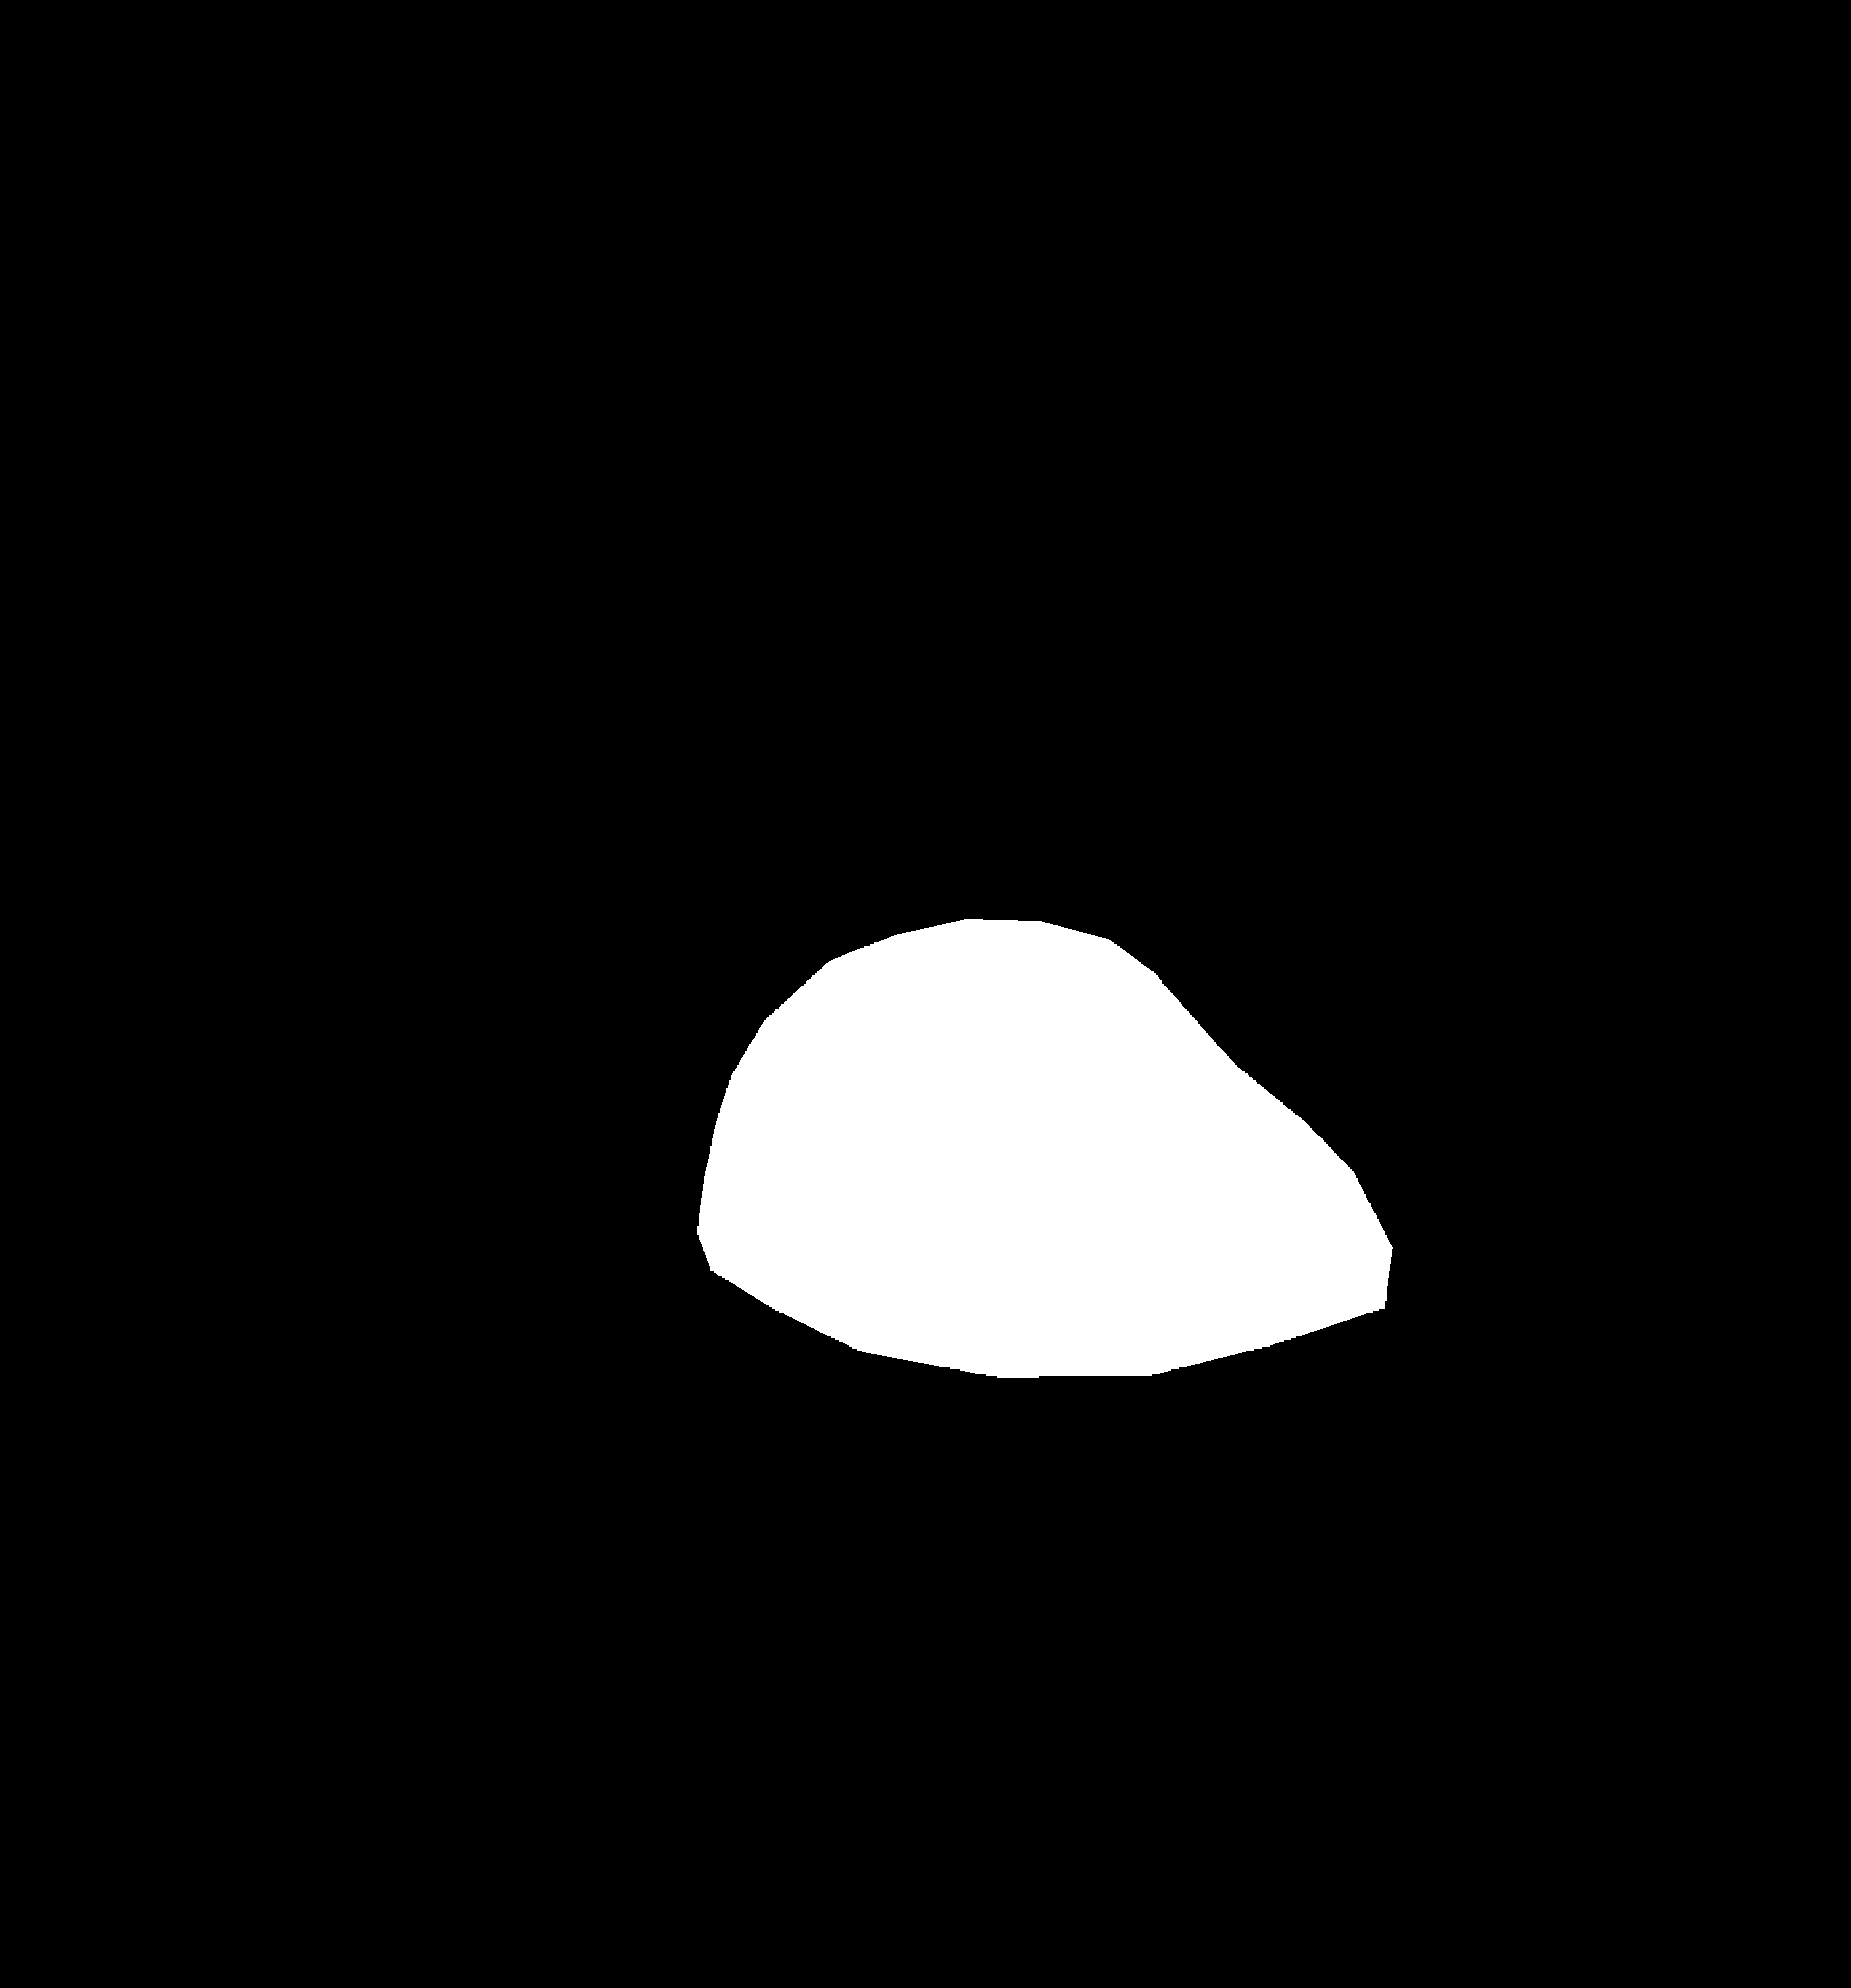heart: (703, 990, 1487, 1421)
left_lung: (181, 391, 792, 1484)
right_lung: (912, 365, 1600, 1437)
